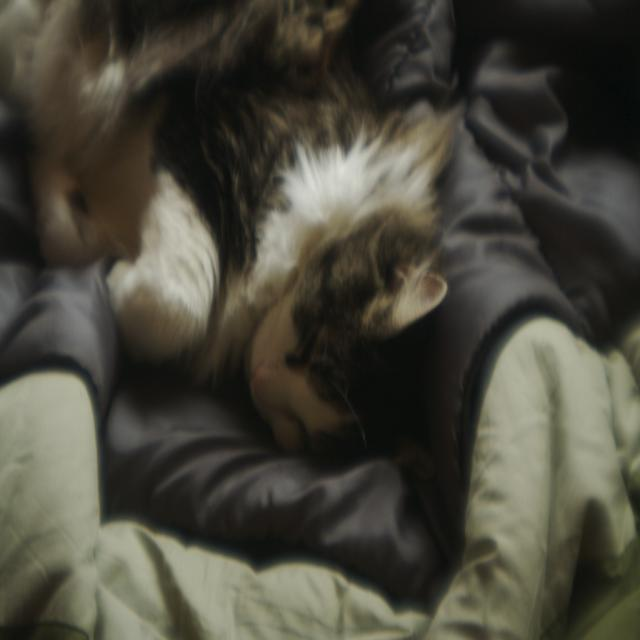Cat: (0, 0, 461, 464)
